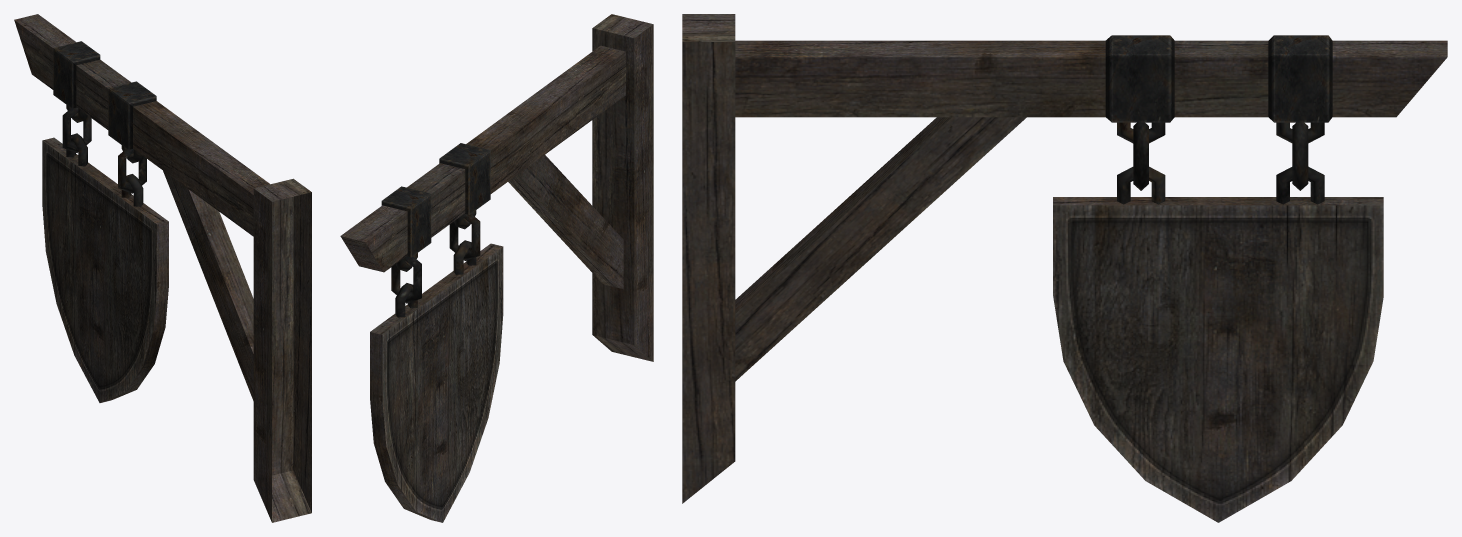
File: Signboard1B.fbx
The picture shows the model from 3 angles, left to right: view 1: azimuth 30°, elevation 25°; view 2: azimuth 150°, elevation 25°; view 3: azimuth 270°, elevation 25°; orthographic projection. The views are drawn at different scales.
Parts seen in each view (by area): view 1: polySurface184; view 2: polySurface184; view 3: polySurface184.
Boxes of the visible parts, x1,y1,x2,y2 form: polySurface184: [14, 14, 311, 522]; polySurface184: [340, 14, 653, 522]; polySurface184: [682, 14, 1447, 522].
Bounding box in the file's own units: 0.843 × 6.9 × 9.75.
